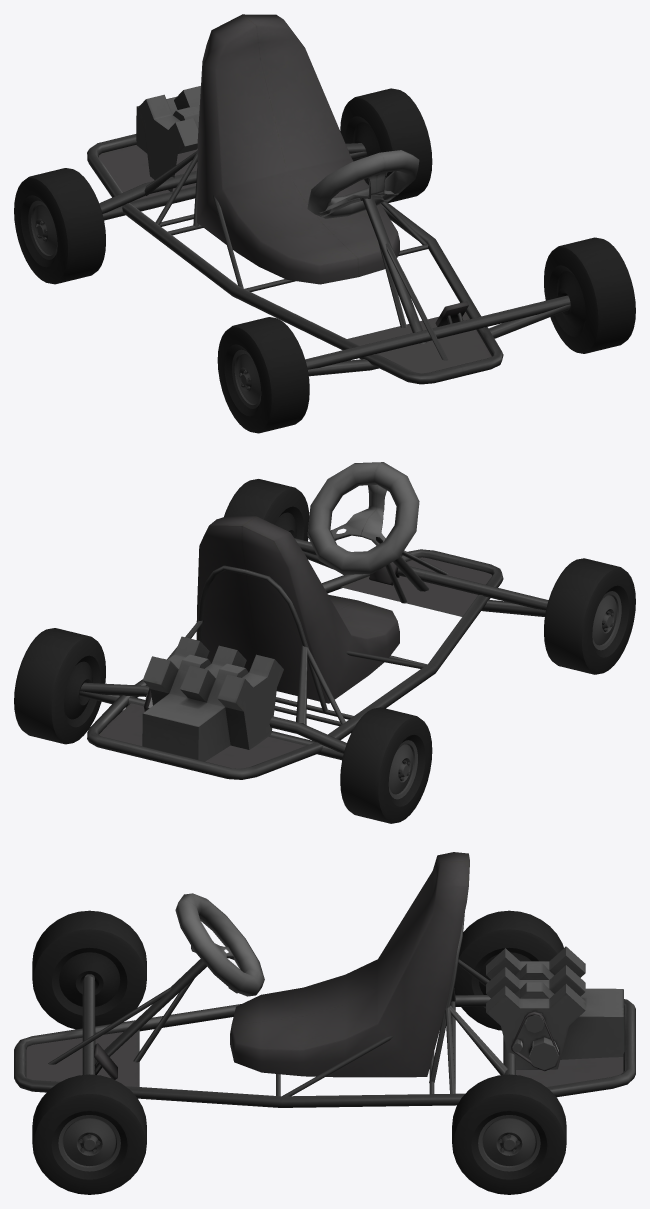
Rendered from nft_ipfs_gltf.gltf.
3 views of the same model, one above another, from view 1: azimuth 30°, elevation 25°; view 2: azimuth 150°, elevation 25°; view 3: azimuth 270°, elevation 25° (orthographic). The views are drawn at different scales.
Visible parts, largest first — view 1: carbody, wheel; view 2: carbody, wheel; view 3: carbody, wheel.
Boxes of the visible parts, x1,y1,x2,y2 form: carbody: (87,14,570,384); wheel: (14,88,635,433); carbody: (79,462,548,779); wheel: (14,479,635,823); carbody: (14,852,635,1107); wheel: (32,910,566,1194).
Size of the model in its own units: 1.38 by 0.8462 by 1.96.
2 materials, 2 textured.
